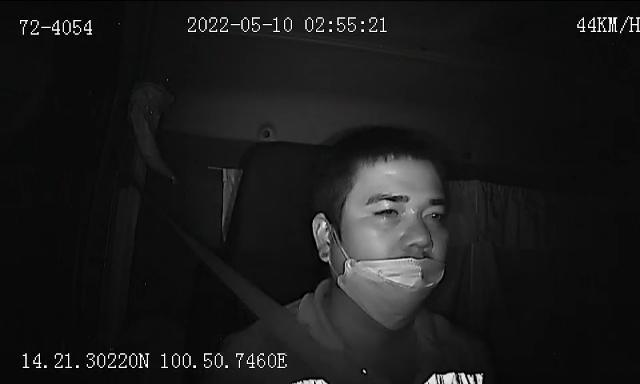SafeDriving: (366, 199, 408, 222), (420, 202, 451, 225)
Seatbelt: (192, 238, 370, 384)
